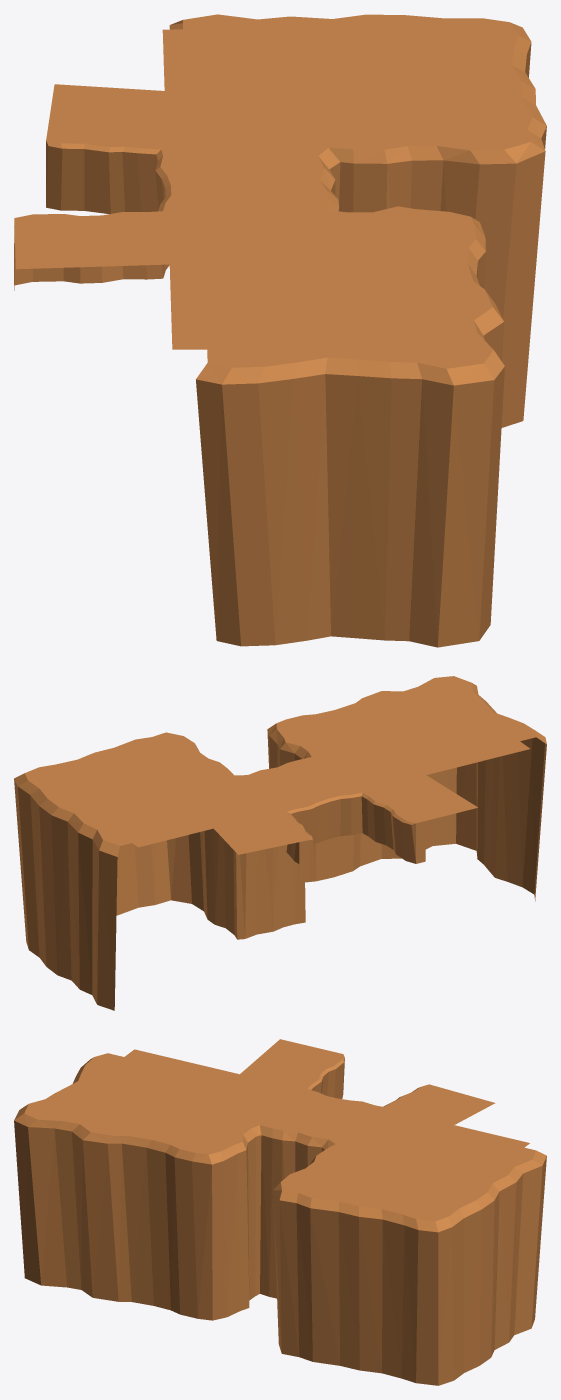
The model's file is Collider_ground7.fbx.
3 views of the same model, one above another, from view 1: azimuth 30°, elevation 25°; view 2: azimuth 150°, elevation 25°; view 3: azimuth 270°, elevation 25° (orthographic). The views are drawn at different scales.
Parts seen in each view (by area): view 1: 平面.053; view 2: 平面.053; view 3: 平面.053.
Part boxes in pixels (box(x1,y1,x2,y2)): 平面.053: box(14, 14, 546, 647); 平面.053: box(14, 676, 546, 1010); 平面.053: box(14, 1039, 546, 1385).
Bounding box in the file's own units: 4576 × 5519 × 1895.
